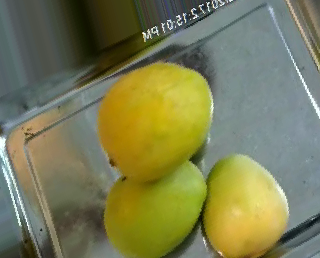Mango: (96, 63, 210, 183), (98, 154, 208, 252), (199, 152, 290, 256)
